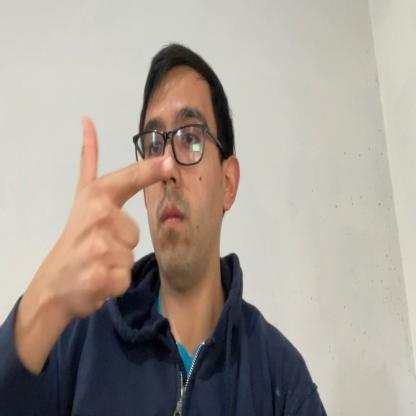G: (60, 115, 174, 318)
